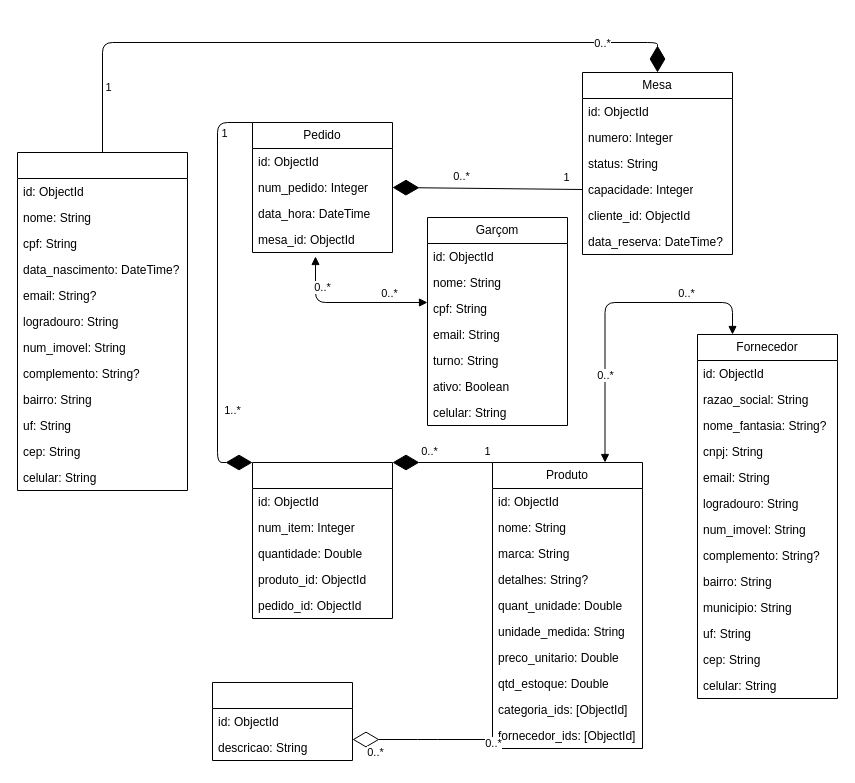
Some shapes in this 855 by 783 pixel diagram are drawn without their labels. The shapes that lost their labels are listed below. From the top down, each one's box as (x1, y1, x2, y2) in pixels, then its label:
(16, 152, 188, 490): Cliente
(252, 462, 392, 618): ItemPedido
(212, 682, 352, 760): Categoria
